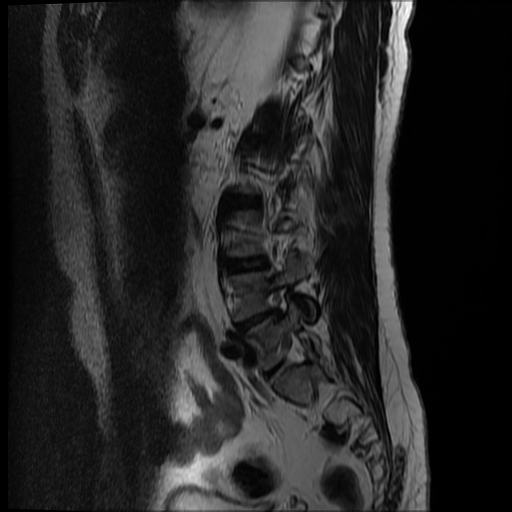LFS0: (257, 280, 302, 323)
